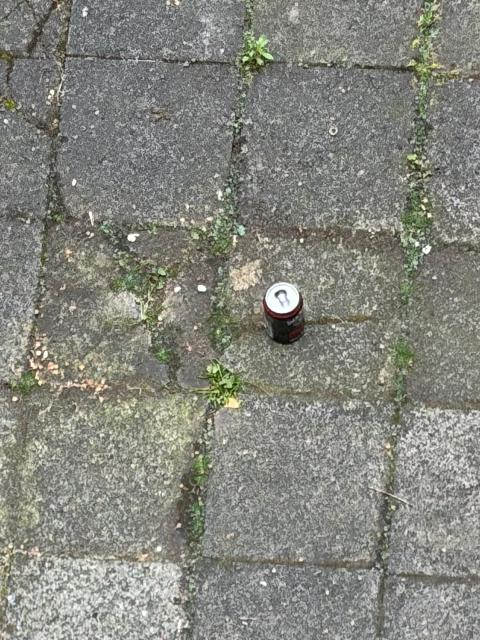can: (264, 283, 306, 343)
